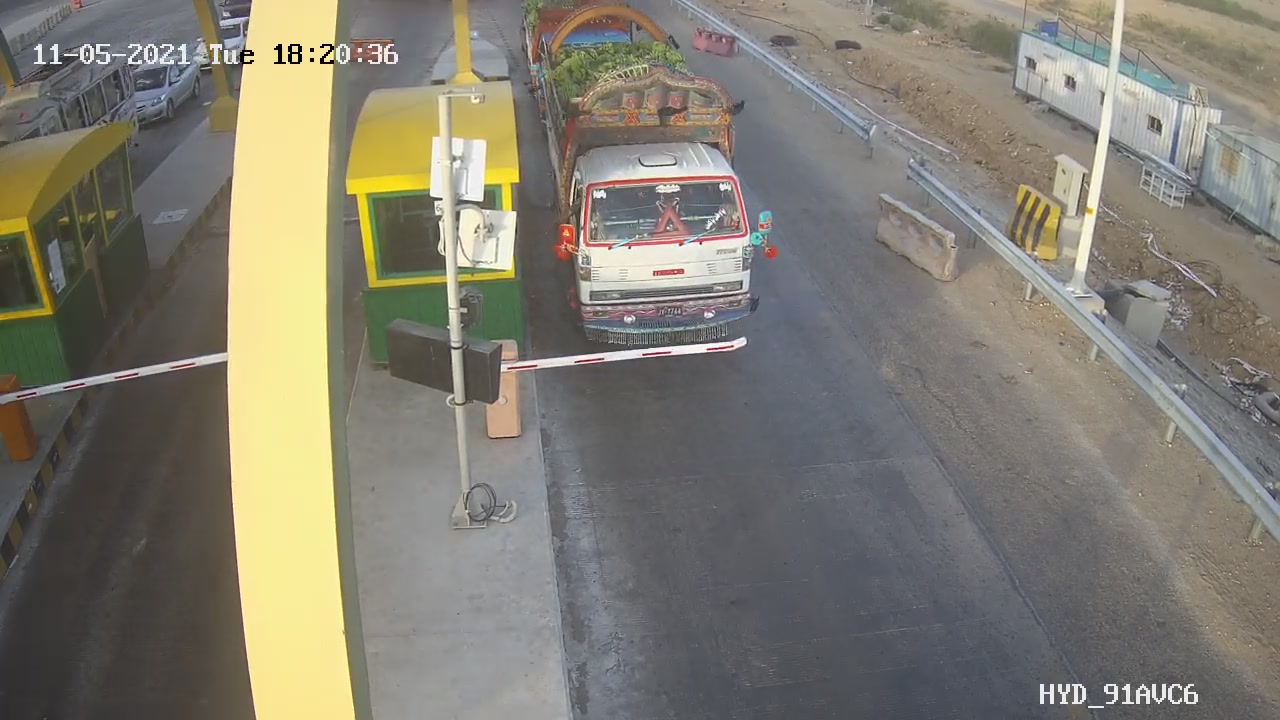F5: (530, 33, 783, 342)
